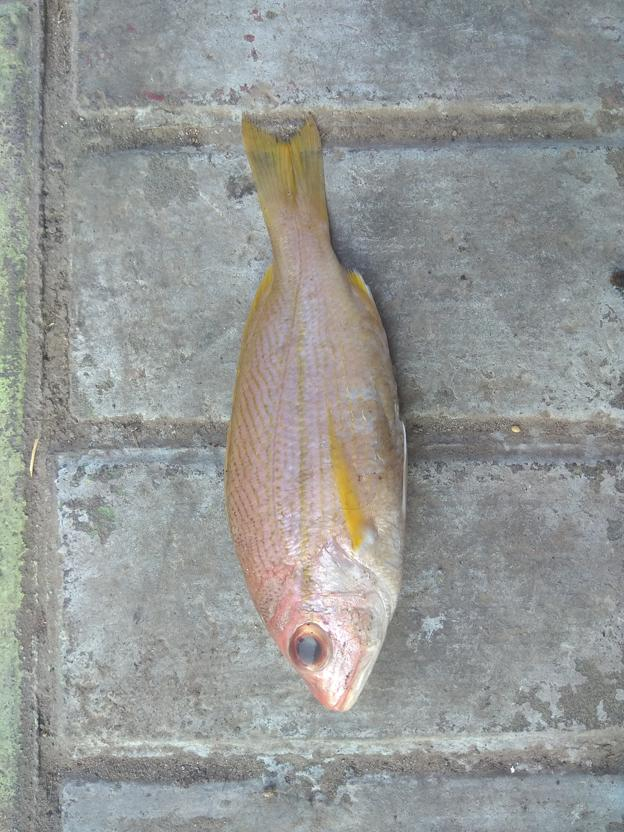Fish head: (235, 548, 405, 715)
Fish tail: (237, 111, 332, 226)
